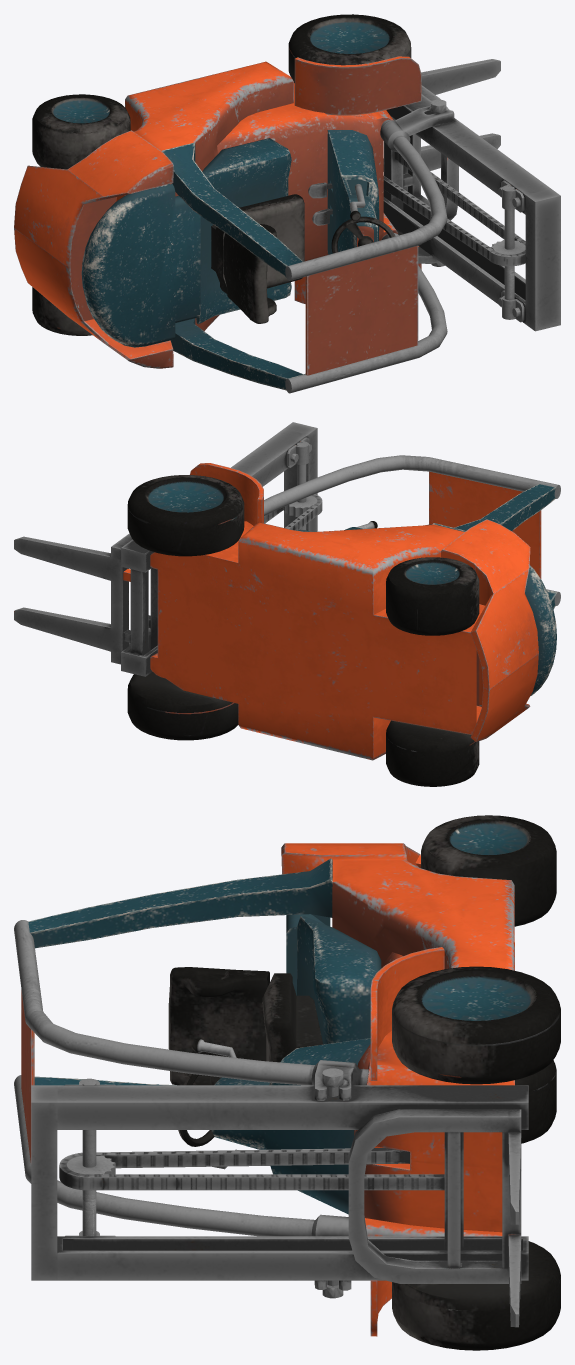
The model's file is forklift.obj.
3 renders of one model, top to bottom at view 1: azimuth 30°, elevation 25°; view 2: azimuth 150°, elevation 25°; view 3: azimuth 270°, elevation 25°, orthographic. The views are drawn at different scales.
Parts seen in each view (by area): view 1: forklift_Plane; view 2: forklift_Plane; view 3: forklift_Plane.
Boxes of the visible parts, x1=… form: forklift_Plane: x1=14, y1=14, x2=560, y2=393; forklift_Plane: x1=14, y1=422, x2=560, y2=786; forklift_Plane: x1=14, y1=815, x2=560, y2=1350.
Bounding box in the file's own units: 2.51 × 1.18 × 1.75.
Materials: 1 (1 with a texture image).
